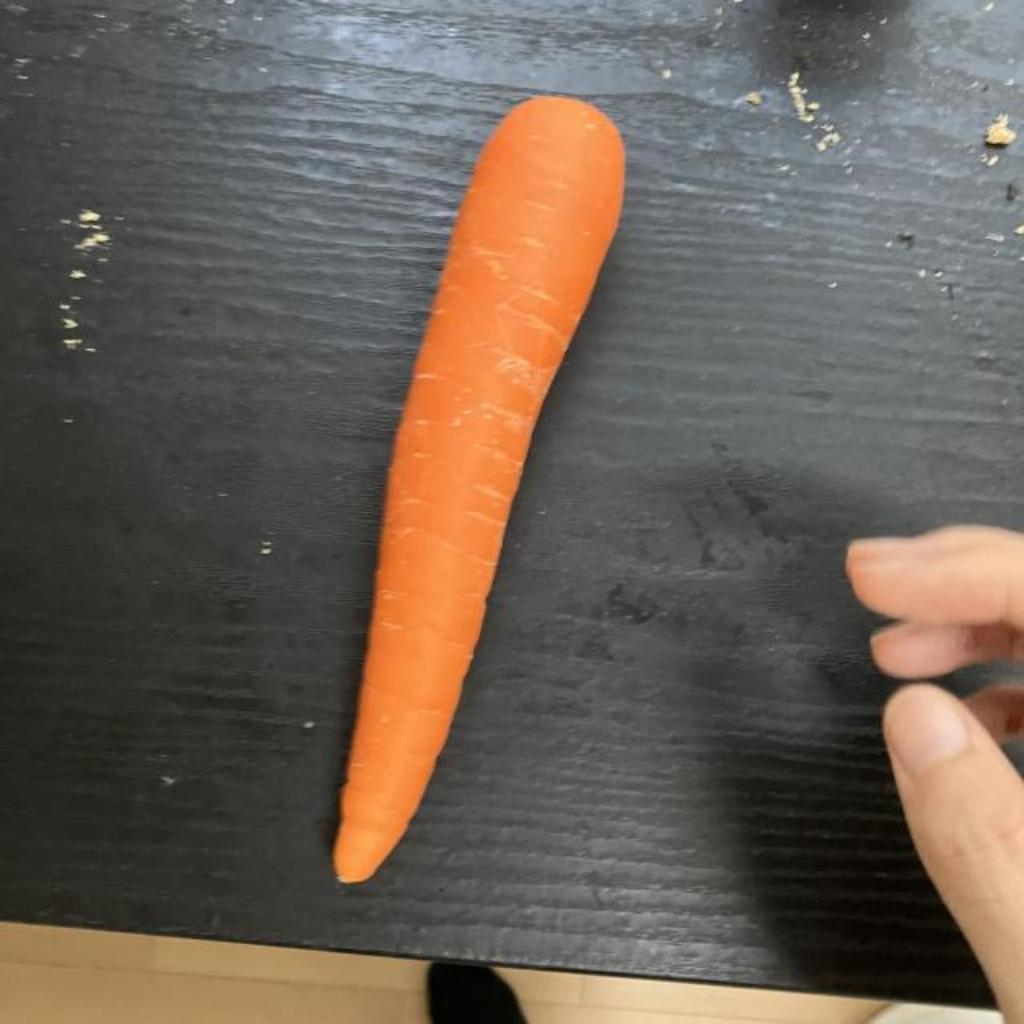carrot: (334, 98, 624, 881)
